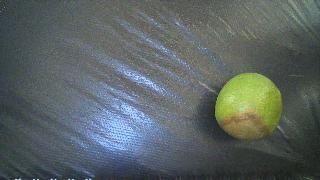DESECHO: (215, 73, 282, 141)
